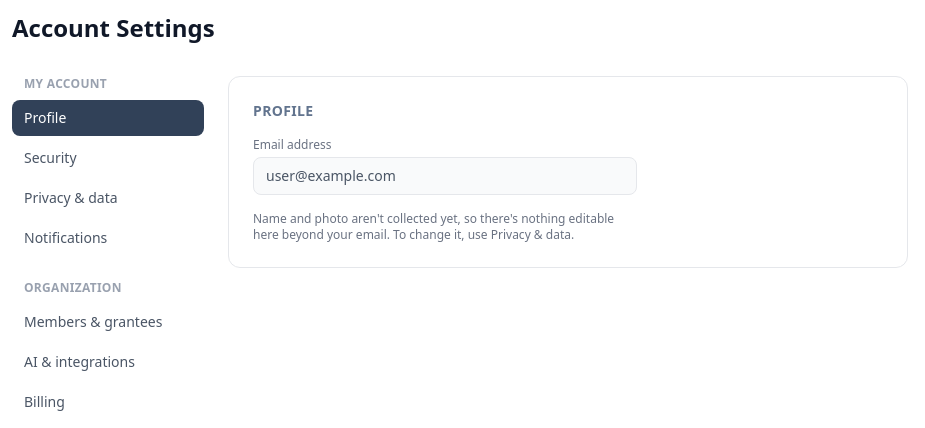
Test case: SettingsPage › shows Manage Grantees after selecting Members & grantees for a donor customer
Step 1. Click the button "Members & grantees" → (108, 322), box [12, 304, 204, 340]
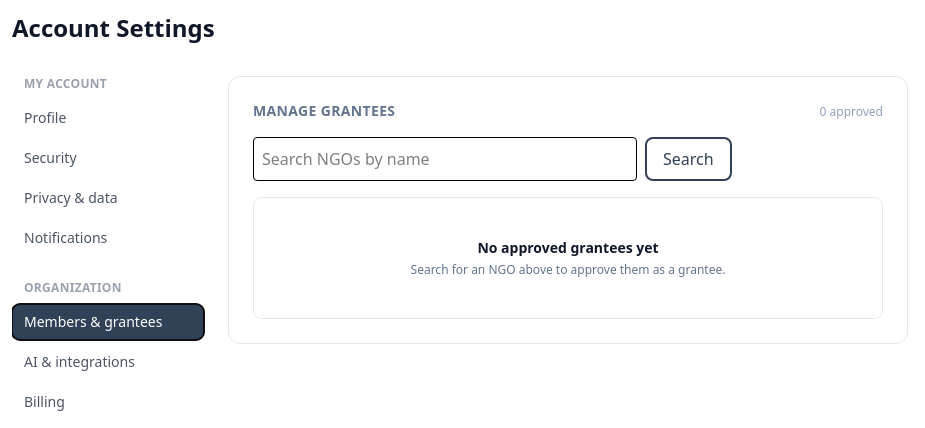
Now the heading "Manage Grantees" is shown, box [253, 101, 395, 121]
